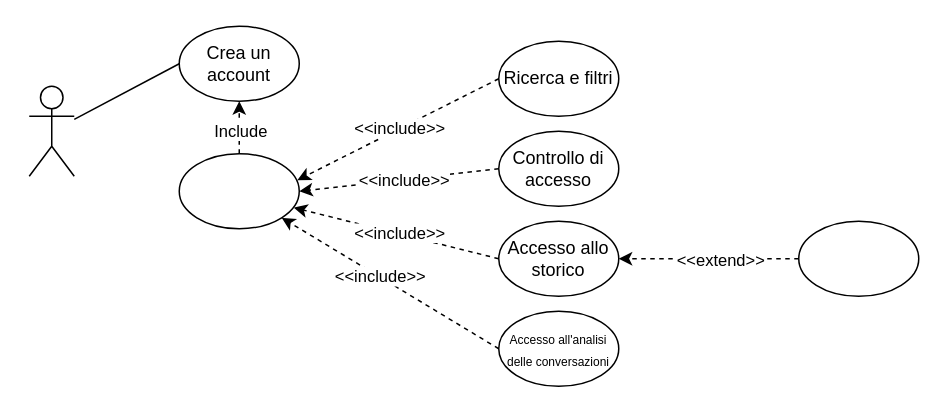
Image size: 945x413. Some labels were removed from this diagram. Each missing label, with the box of its shape:
Esegue login: (178, 152, 299, 229)
Esportare chat: (797, 220, 919, 296)
Utente: (28, 85, 74, 176)
